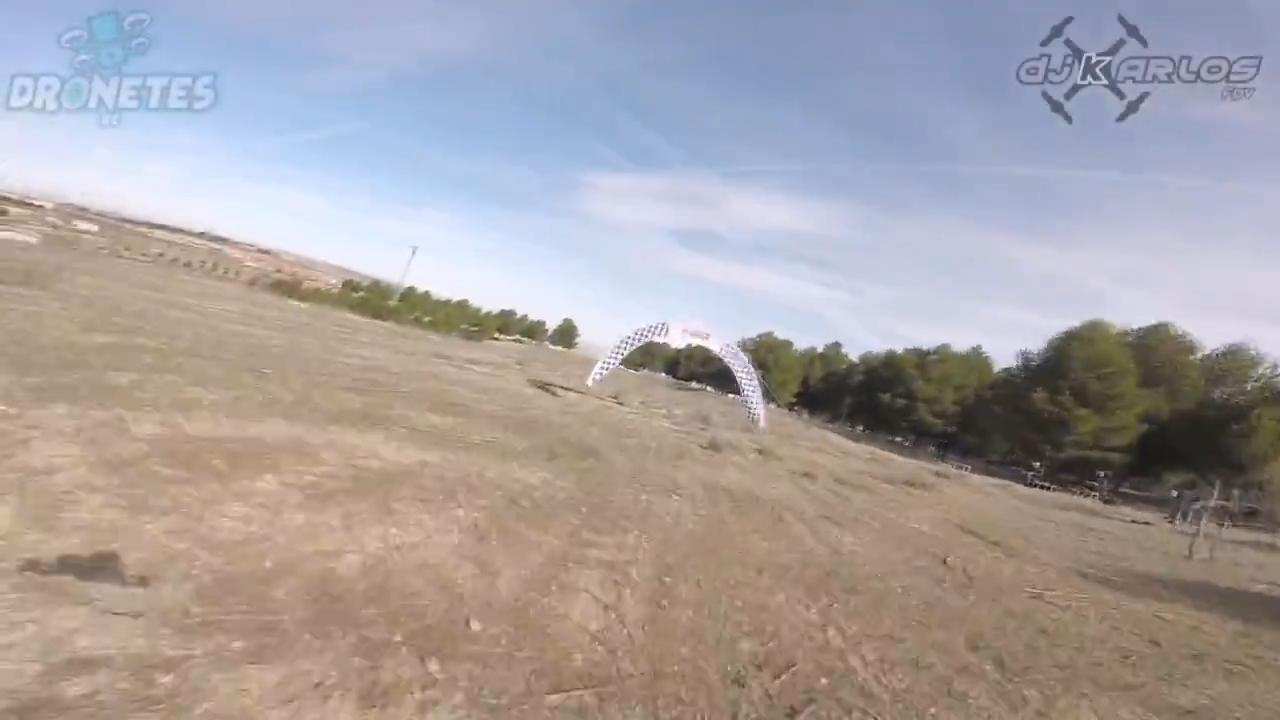gate: (585, 315, 768, 436)
